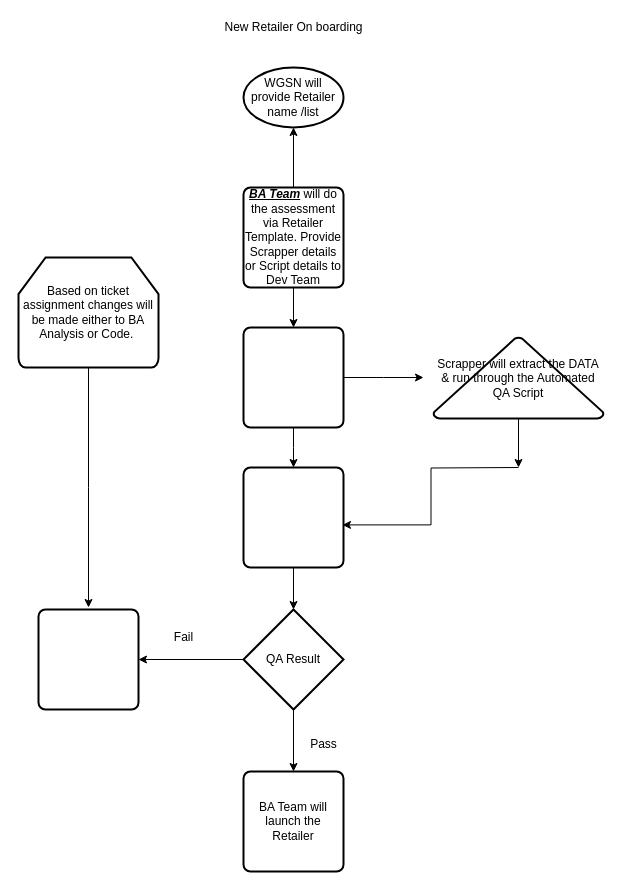
This 621x889 diagram has some shape labels left out. Here are the shapes that lost their labels. From the top down, the box of each, then its label:
(242, 326, 344, 428): Dev Team based on the analysis will develop the code /script.
(242, 466, 344, 568): QA Team will test the collated
(37, 608, 139, 710): Ticket is raised in Jira for either BA / Dev
